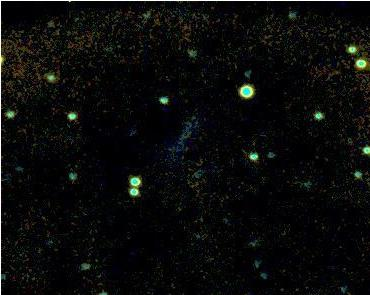star: (0, 43, 20, 73)
